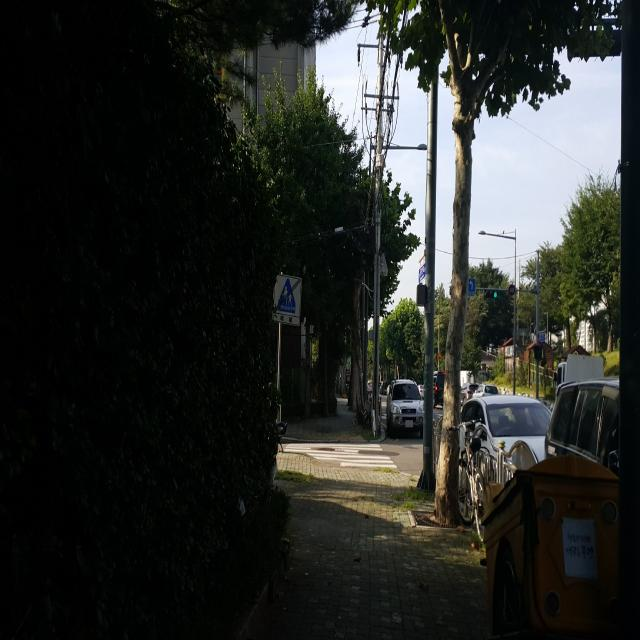횡단보도: (283, 442, 398, 469)
